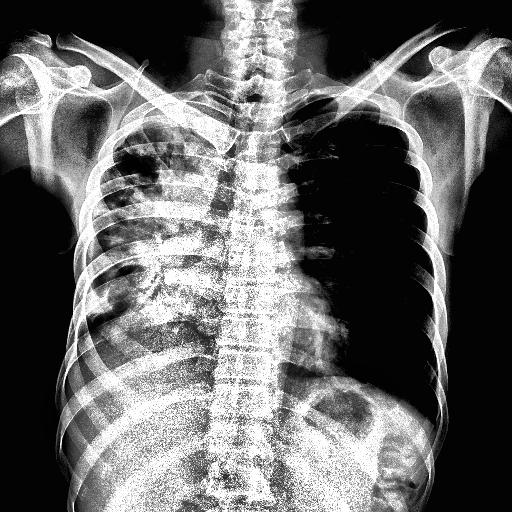0- Aortic enlargement: (252, 164, 304, 232)
11- Pleural thickening: (135, 94, 233, 132)
13- Pulmonary fibrosis: (96, 231, 146, 299)
4- Consolidation: (82, 90, 232, 332), (85, 102, 242, 322), (110, 156, 228, 315), (84, 292, 113, 314)
7- Lung Opacity: (82, 90, 232, 332), (85, 102, 242, 322), (112, 131, 209, 184)
